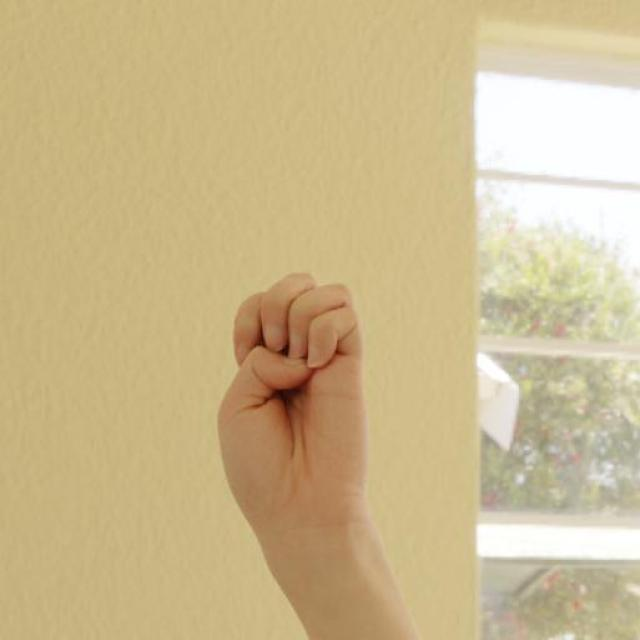E: (213, 268, 373, 538)
